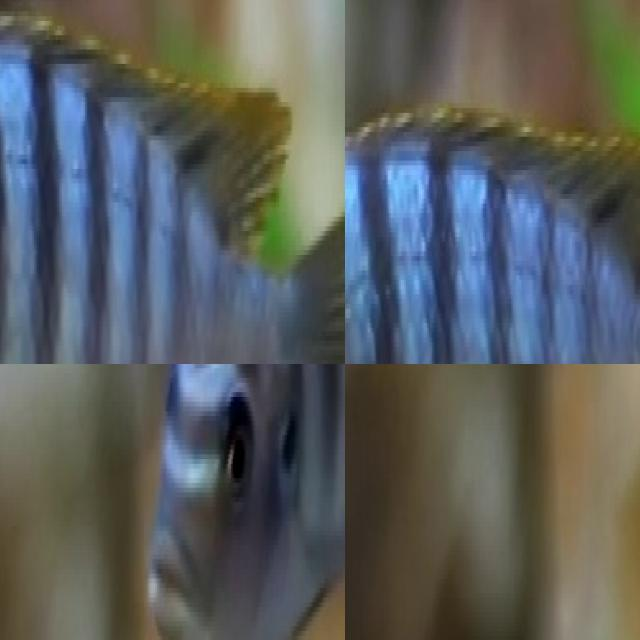fish: (0, 2, 345, 364), (345, 0, 640, 364)
